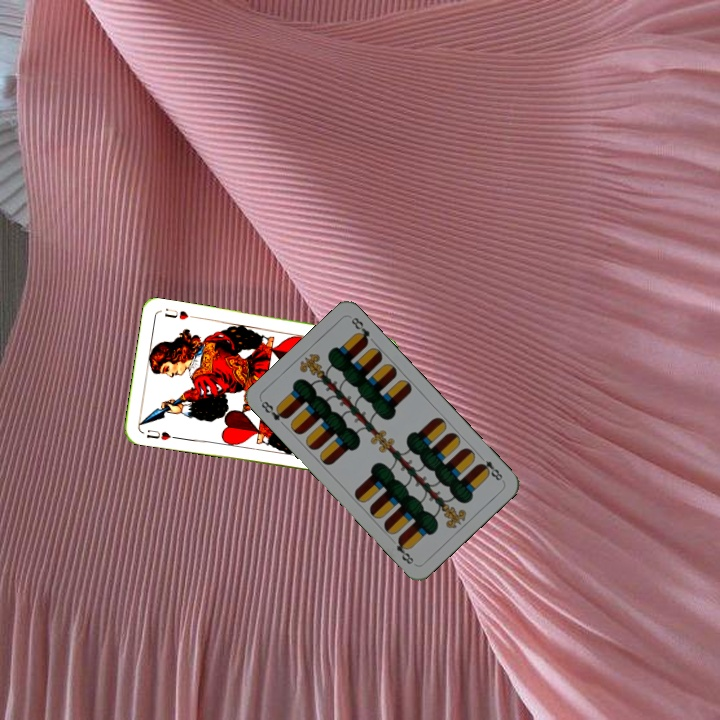E8: (474, 451, 506, 484), (257, 397, 291, 423)
HU: (142, 426, 179, 443)
